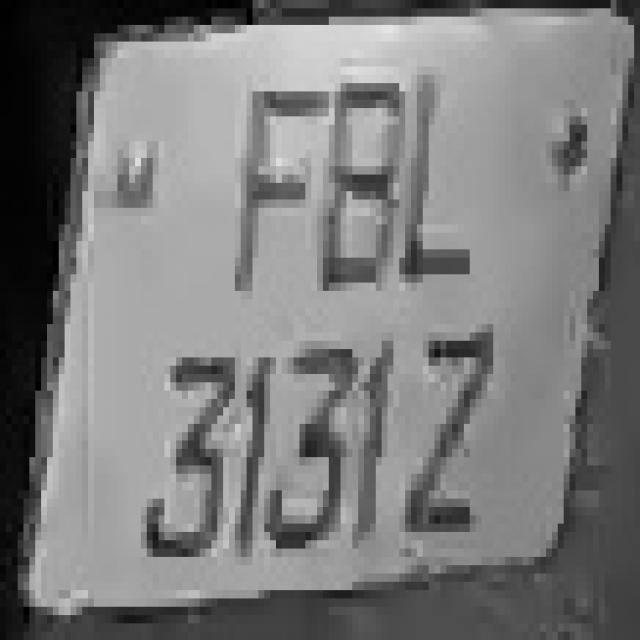1: (335, 332, 393, 598), (217, 307, 270, 582)
3: (141, 324, 229, 565), (276, 324, 346, 565)
B: (311, 58, 411, 299)
F: (229, 41, 323, 308)
L: (388, 58, 488, 299)
Z: (405, 299, 505, 557)
